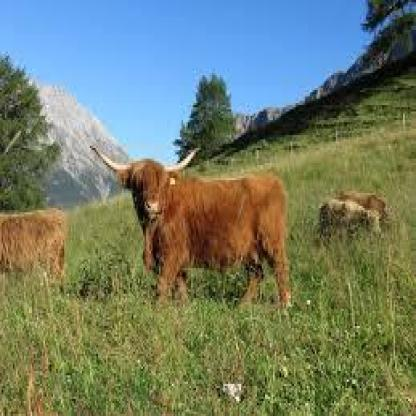cow: (121, 160, 292, 306), (0, 209, 67, 290), (320, 198, 380, 242), (335, 190, 391, 226)
